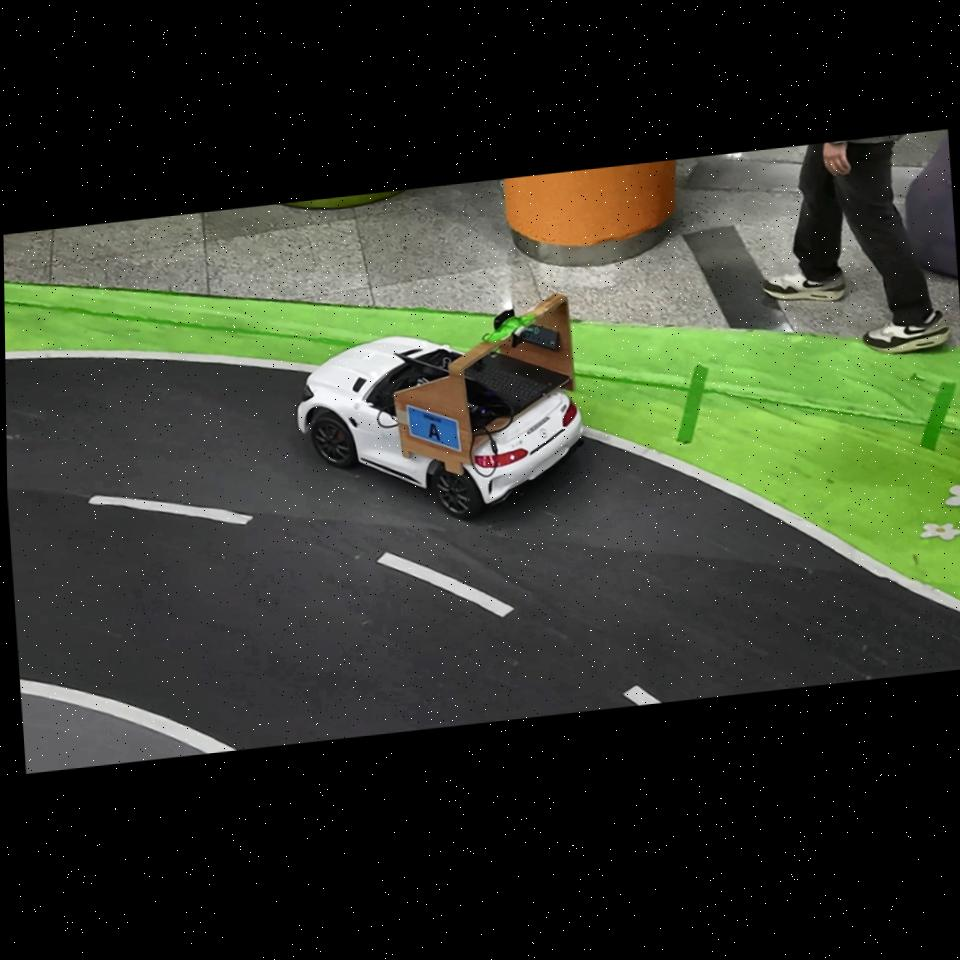broken_line: (377, 552, 513, 617), (88, 495, 252, 524), (624, 685, 661, 705)
